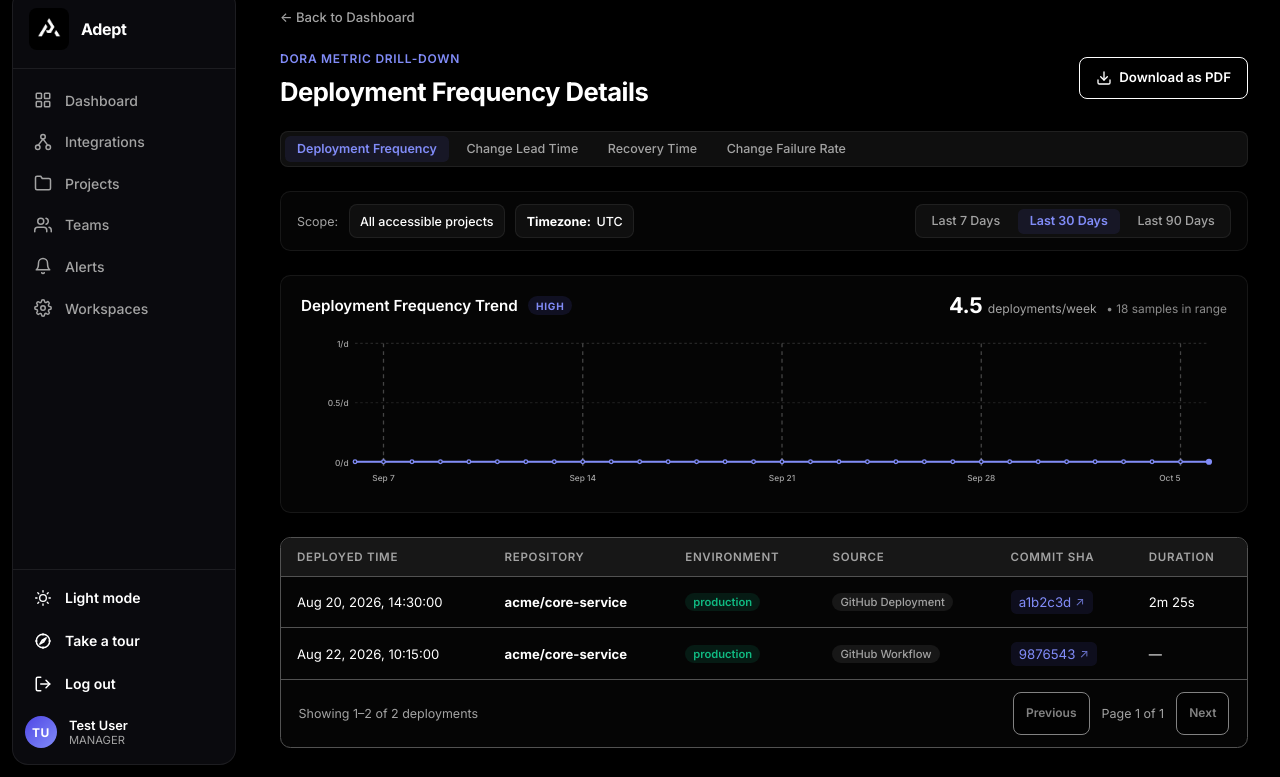
it: MetricDetailsPage › switches to Change Failure Rate tab and renders the deployments table
Expected: the heading "Deployment Frequency Details" is shown, x1=280 y1=76 x2=648 y2=107
Click the tab "Change Failure Rate": click(786, 149) x1=715 y1=136 x2=858 y2=162
(page scrolled)
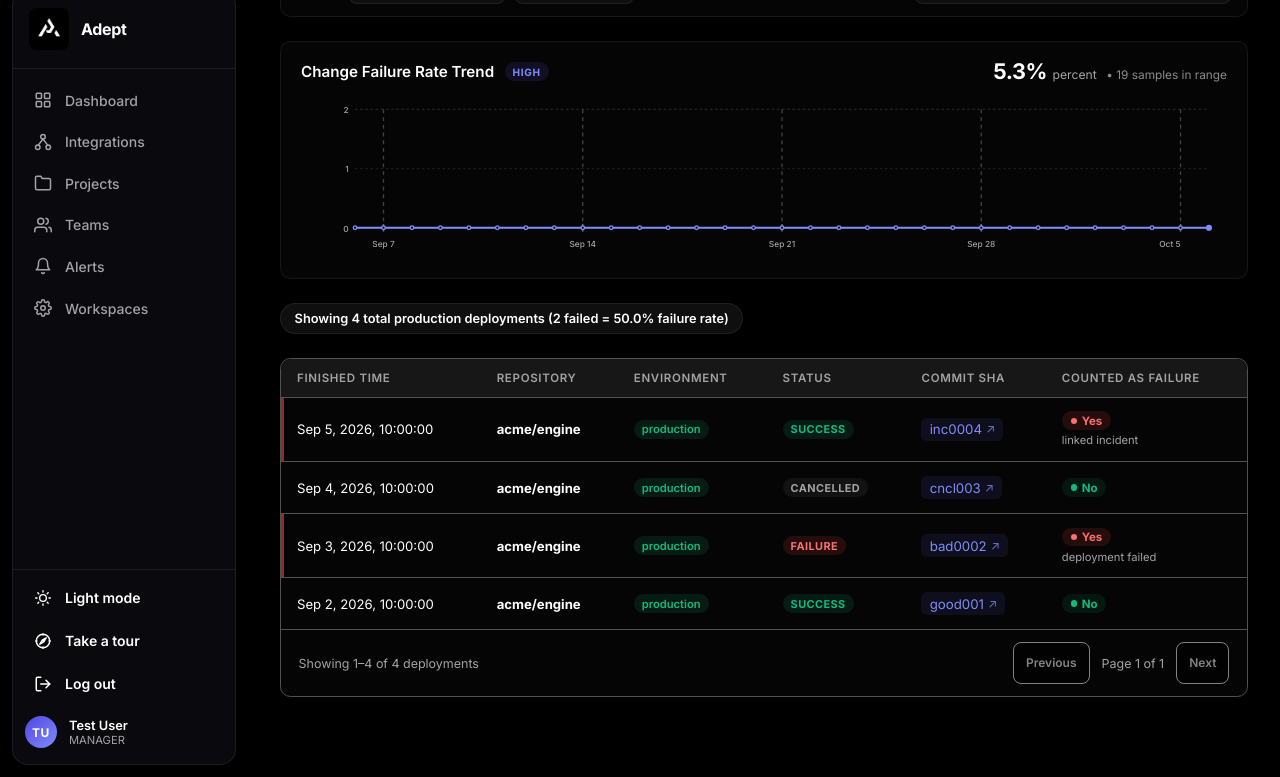
Result: the table named "Production deployments counted in change failure rate" is shown at x1=281 y1=359 x2=1247 y2=629
